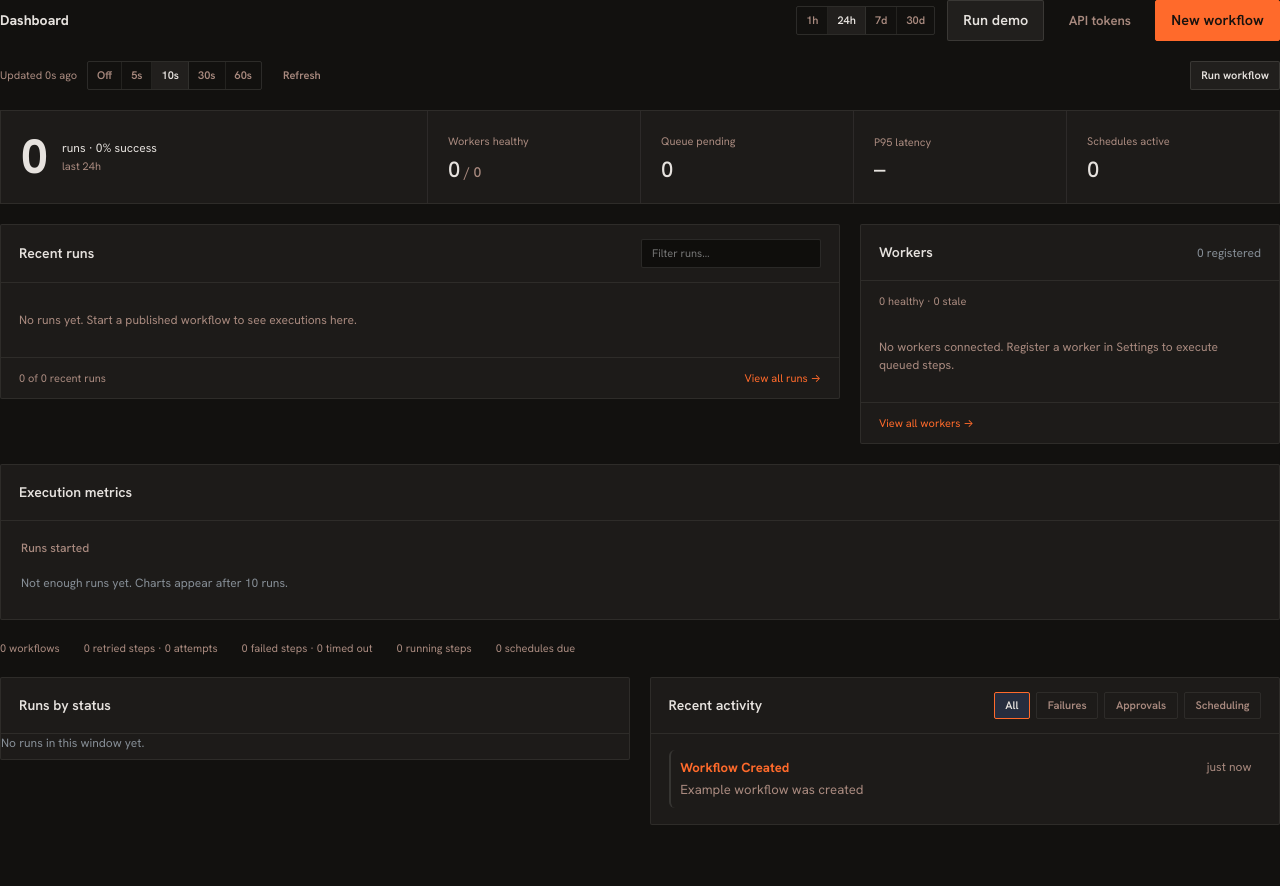
Test: DashboardPage › opens the run-workflow panel and validates JSON input
Click the button "Run workflow": [1235, 75] box [1190,61,1279,90]
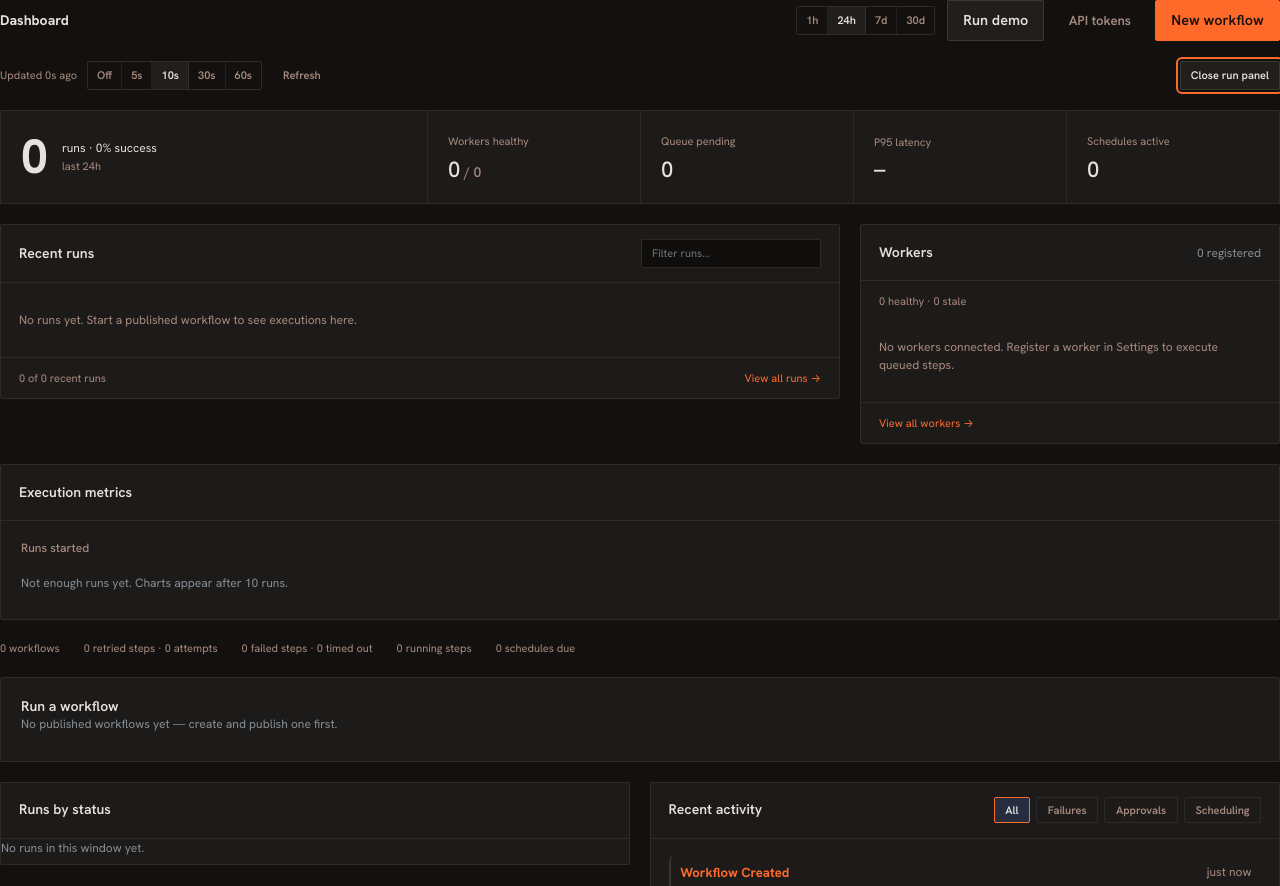
Expected: the element "Run a workflow" is shown, [0,677,1279,762]
Expected: the text "No published workflows yet — create and publish one first." is shown, [21,716,338,732]
